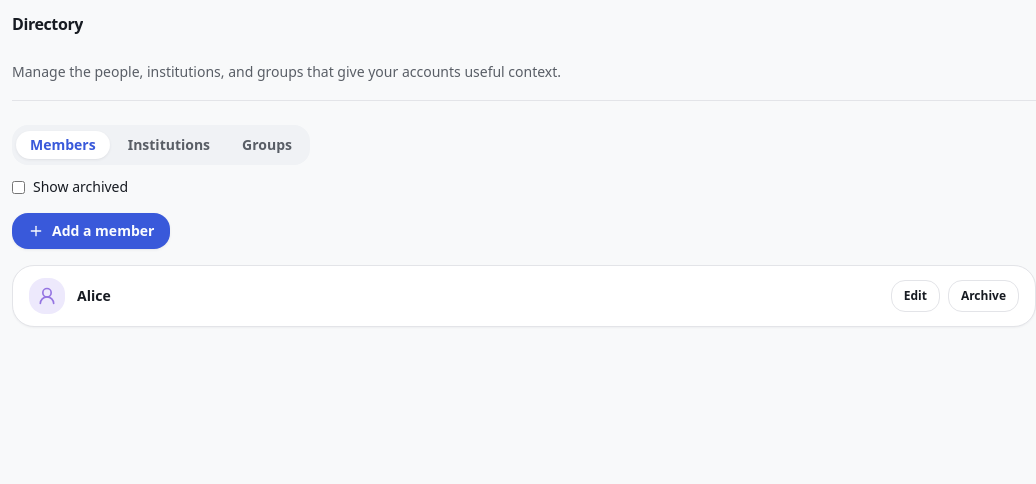
Test: DirectoryPage › switches to the Institutions tab
Expected: the text "Alice" is shown, [77,286,111,306]
Click the tab "Institutions": (169,145) [114,131,224,159]
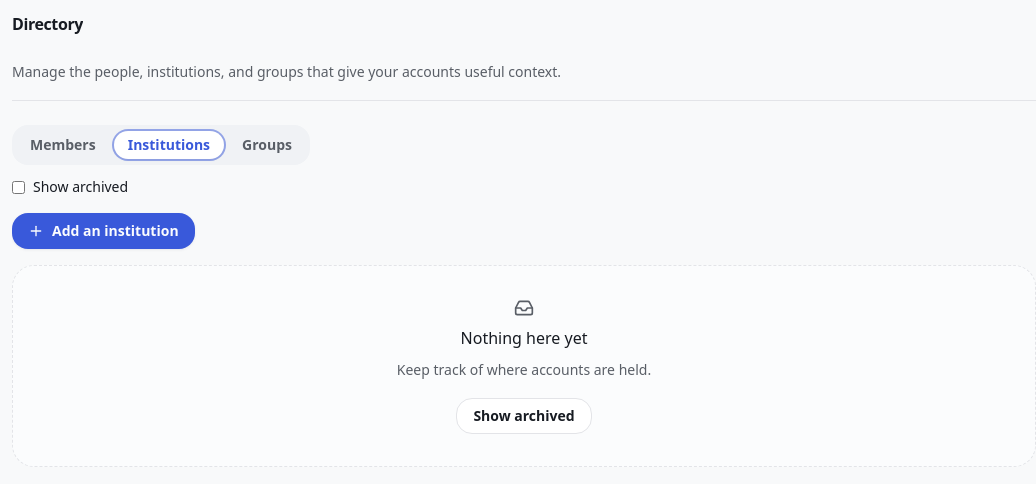
Expected: the panel named "Institutions" is shown, [12,177,1035,467]
